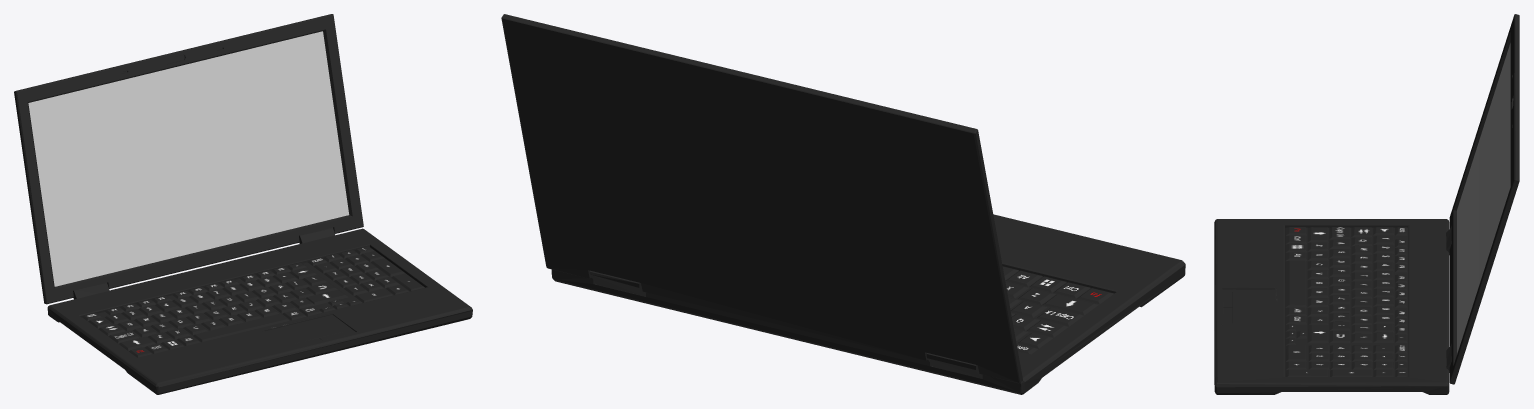
Rendered from Laptop.FBX.
The picture shows the model from 3 angles, left to right: view 1: azimuth 30°, elevation 25°; view 2: azimuth 150°, elevation 25°; view 3: azimuth 270°, elevation 25°; orthographic projection. The views are drawn at different scales.
Parts seen in each view (by area): view 1: Laptop; view 2: Laptop; view 3: Laptop.
Part boxes in pixels (x1=…): Laptop: x1=14, y1=14, x2=472, y2=394; Laptop: x1=501, y1=14, x2=1185, y2=394; Laptop: x1=1214, y1=14, x2=1519, y2=394.
Bounding box in the file's own units: 50.33 × 30.56 × 39.05.
